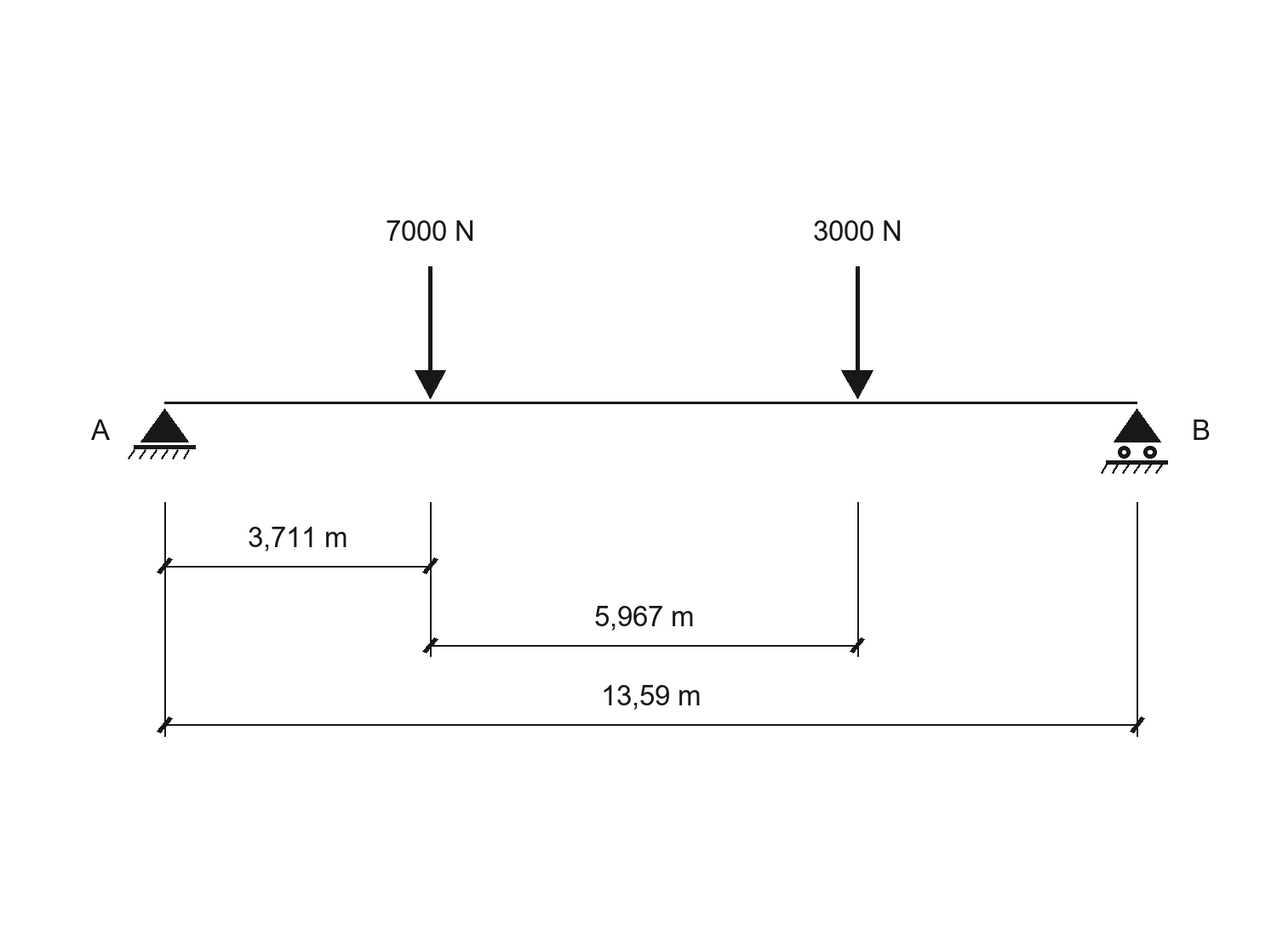pin_support: (128, 408, 196, 459)
point_load: (841, 266, 873, 399), (415, 266, 446, 399)
roller_support: (1101, 408, 1168, 474)
